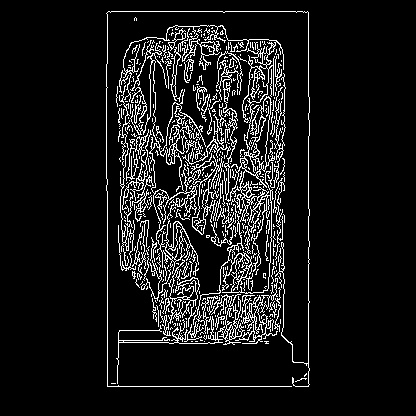buddha-horse-riding: (105, 172, 218, 238)
